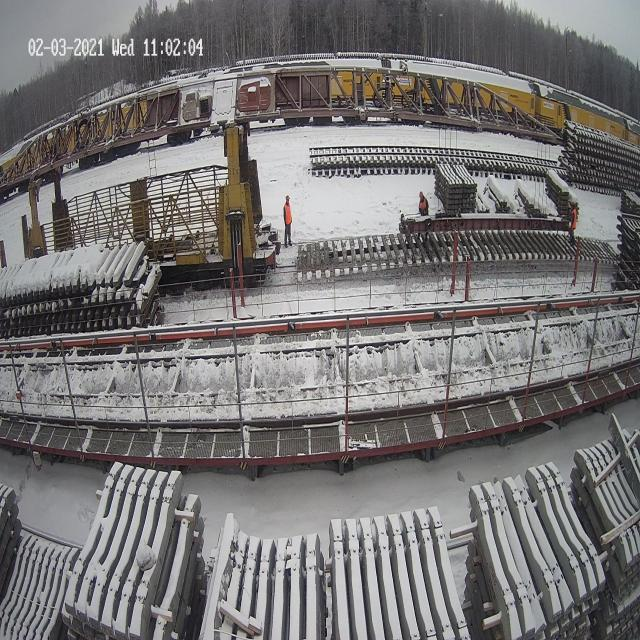Person: (283, 195, 292, 248), (417, 187, 431, 218), (569, 201, 578, 243)
